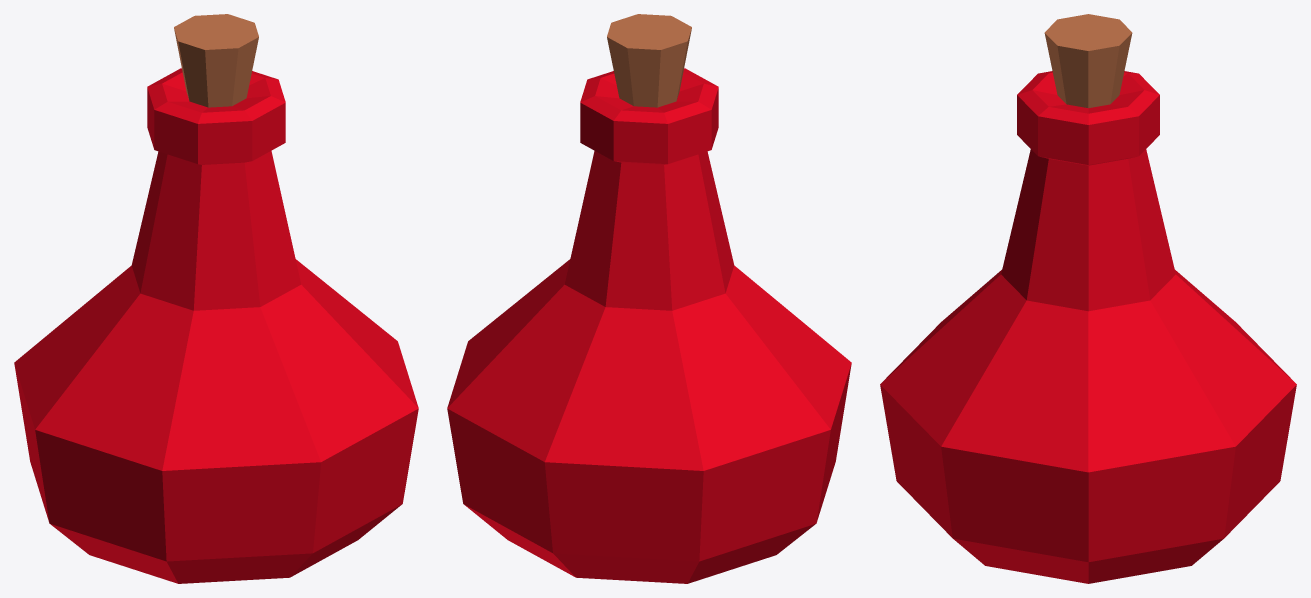
Rendered from HealthPotion.fbx.
3 renders of one model, left to right at view 1: azimuth 30°, elevation 25°; view 2: azimuth 150°, elevation 25°; view 3: azimuth 270°, elevation 25°, orthographic.
Parts seen in each view (by area): view 1: Circle; view 2: Circle; view 3: Circle.
Part boxes in pixels (x1,y1,x2,y2): Circle: (14,14,418,583); Circle: (447,14,851,583); Circle: (880,14,1296,583).
Bounding box in the file's own units: 64.91 × 84.13 × 64.91.
